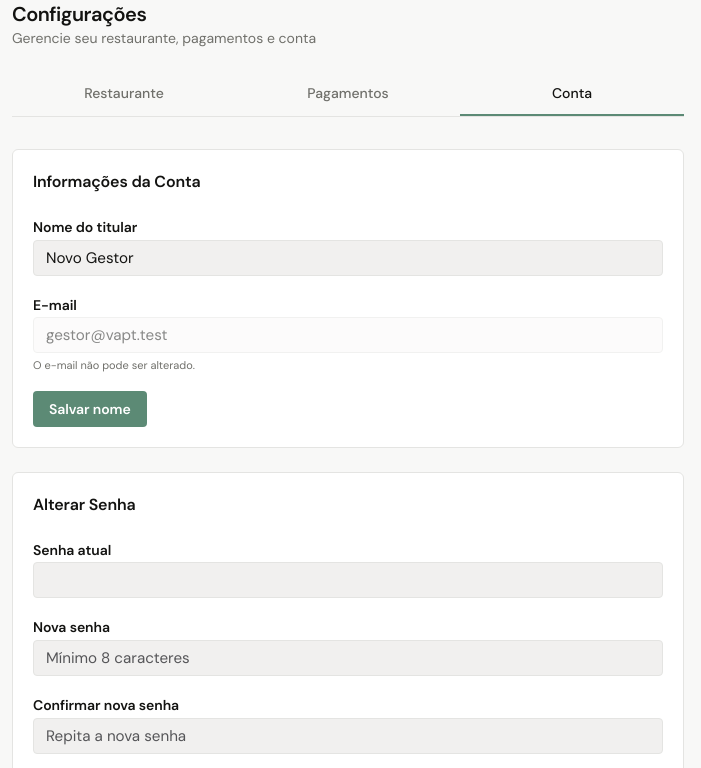
Test case: aba de pagamentos nas configuracoes › updates the Better Auth name and requires the current password for an 8-character password
The width and height of the screenshot is (701, 768).
Earlier steps of the test are not shown.
Later steps or results of the test are not shown.
Click the button "Salvar nome" at (90,409), box [33, 391, 147, 427]
Type "12345678" into the password field labelled "Nova senha" at (348,658), box [33, 640, 663, 676]
Type "12345678" into the password field labelled "Confirmar nova senha" at (348,736), box [33, 718, 663, 754]
(page scrolled)
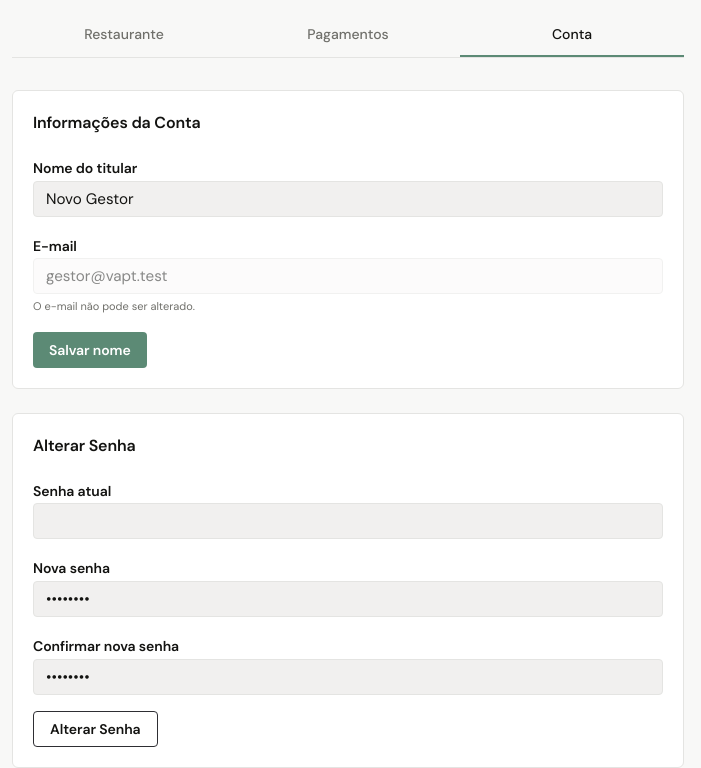
Click the button "Alterar Senha" at (95,729), box [33, 711, 158, 747]
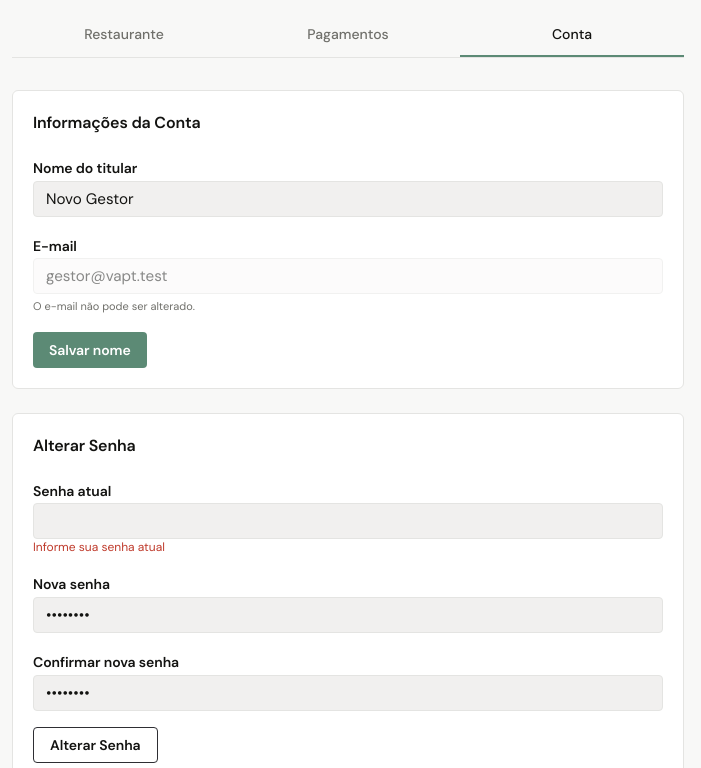
expect the text "Informe sua senha atual" is shown: met, box [33, 539, 165, 555]
Type "senha-atual" into the password field labelled "Senha atual" at (348,521), box [33, 503, 663, 539]
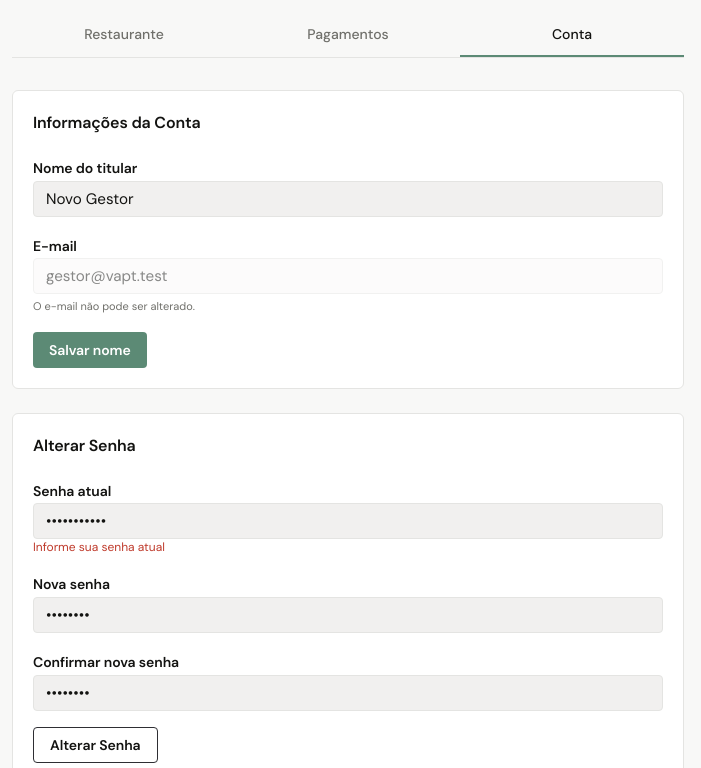
Type "1234567" into the password field labelled "Nova senha" at (348,615), box [33, 597, 663, 633]
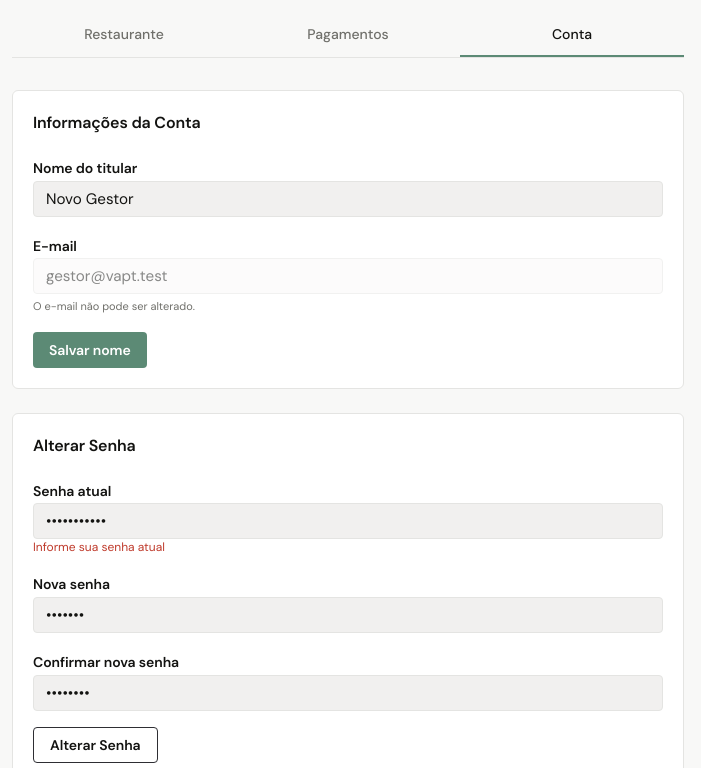
Type "1234567" into the password field labelled "Confirmar nova senha" at (348,693), box [33, 675, 663, 711]
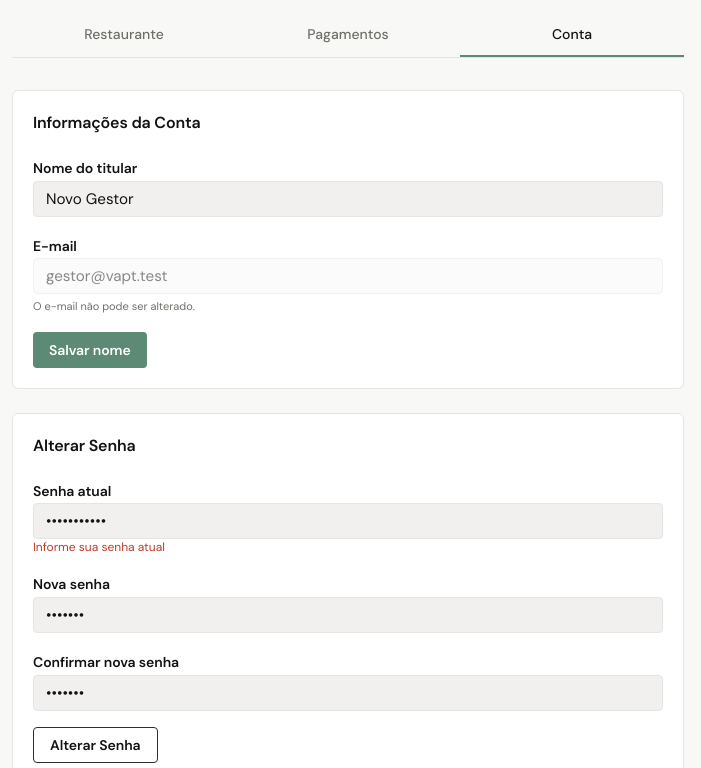
Click the button "Alterar Senha" at (95,745), box [33, 727, 158, 763]
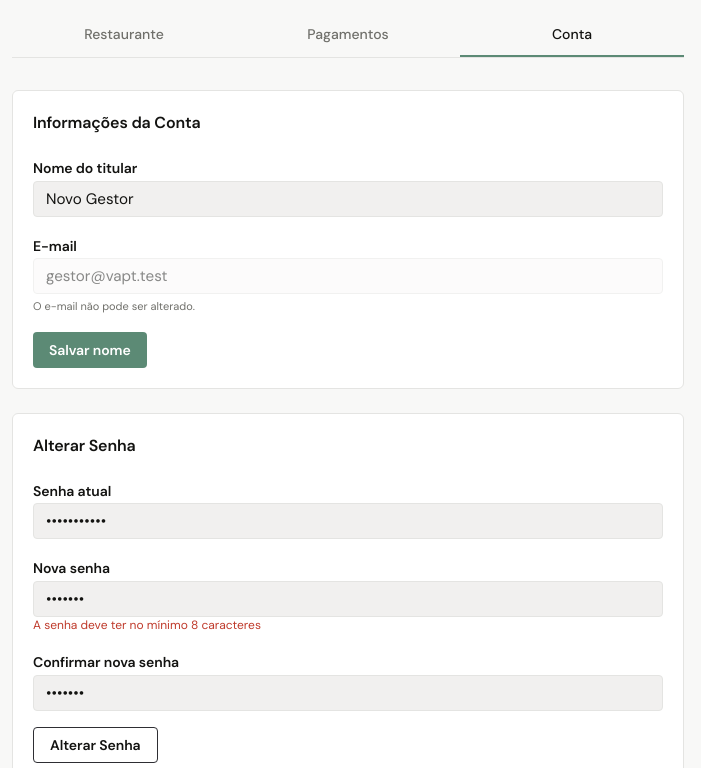
expect the text "A senha deve ter no mínimo 8 caracteres" is shown: met, box [33, 617, 261, 633]
